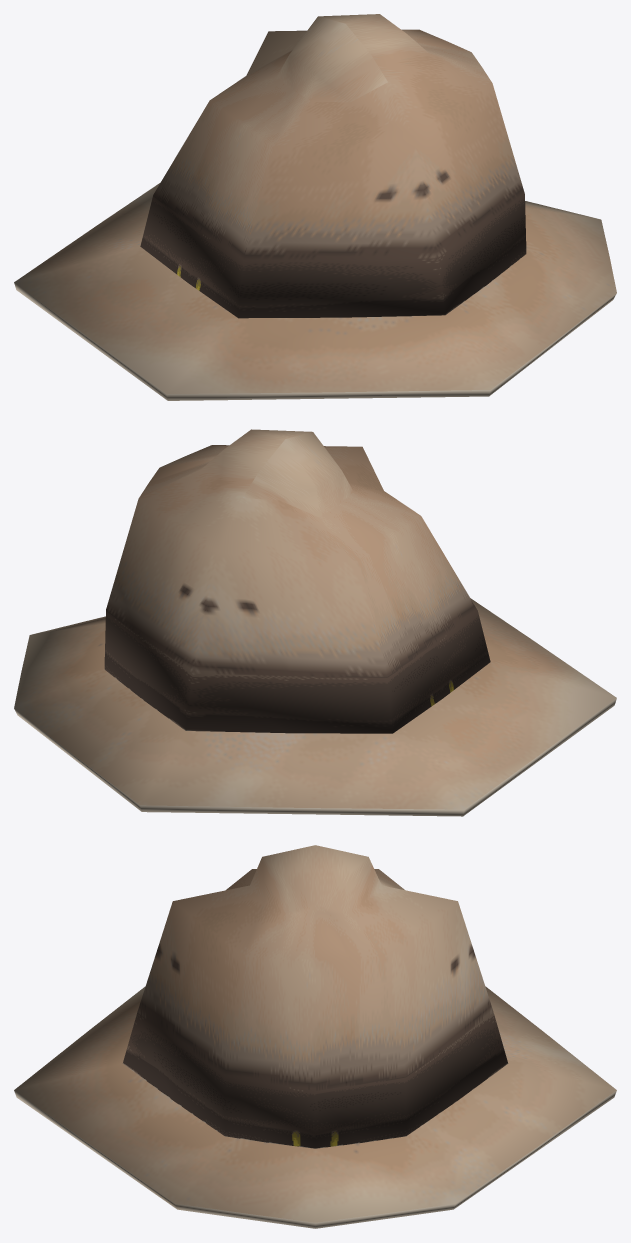
Rendered from Safari.glb.
3 renders of one model, top to bottom at view 1: azimuth 30°, elevation 25°; view 2: azimuth 150°, elevation 25°; view 3: azimuth 270°, elevation 25°, orthographic.
Visible parts, largest first — view 1: Safari; view 2: Safari; view 3: Safari.
Boxes of the visible parts, left/top/right/bottom form: Safari: left=14, top=14, right=616, bottom=400; Safari: left=14, top=429, right=616, bottom=816; Safari: left=14, top=845, right=616, bottom=1228.
Size of the model in its own units: 3.36 by 1.71 by 3.48.
Materials: 1 (1 with a texture image).
